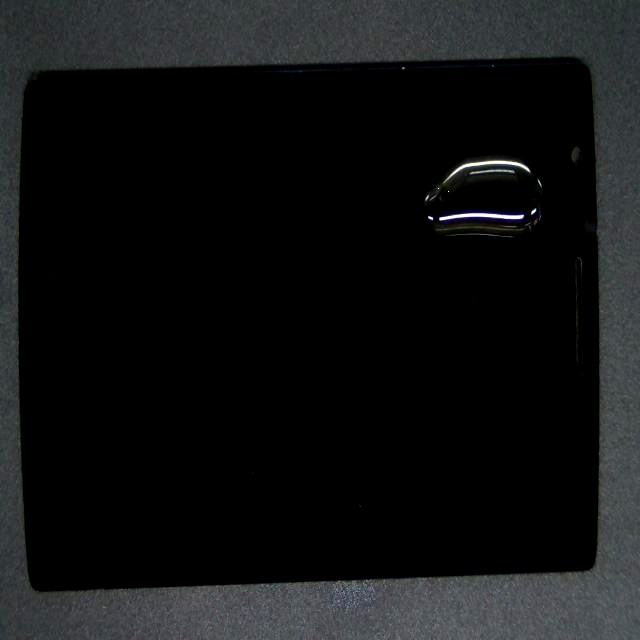oil: (264, 61, 640, 243)
